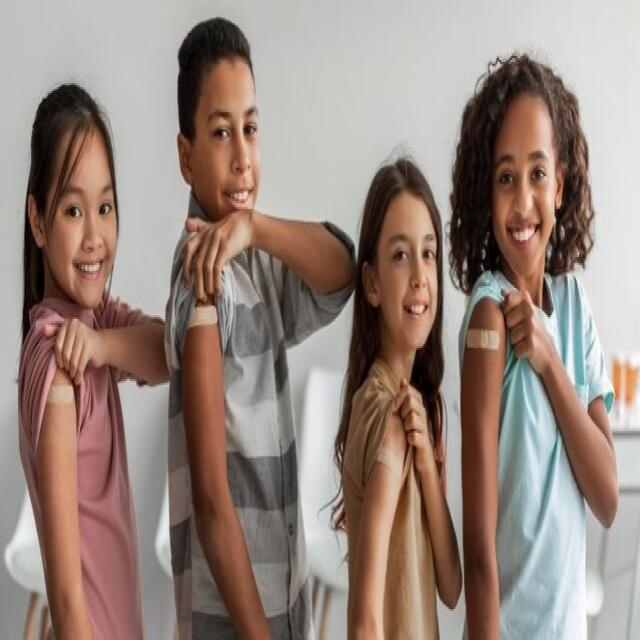Nonhelmet: (460, 55, 592, 291), (165, 10, 272, 232), (26, 80, 121, 323), (349, 144, 453, 358)
